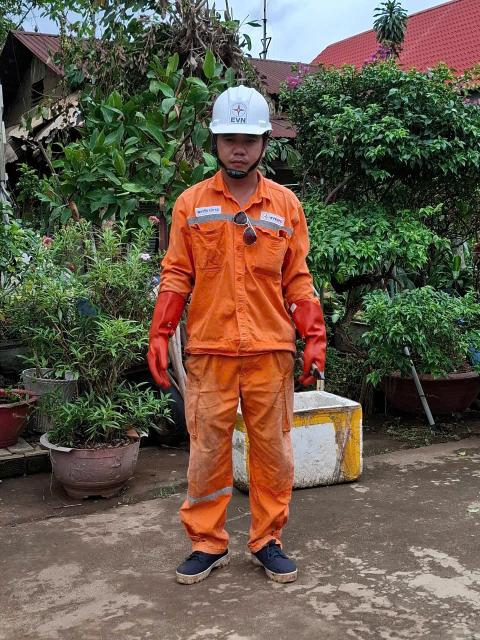gloves: (130, 278, 189, 397), (278, 294, 339, 387)
helmet: (182, 73, 295, 149)
shoes: (240, 532, 303, 590), (177, 529, 232, 588)
